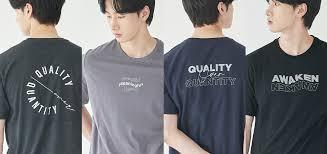Tshirt: (1, 32, 82, 154), (246, 34, 327, 154), (82, 37, 163, 154), (167, 36, 246, 154)
